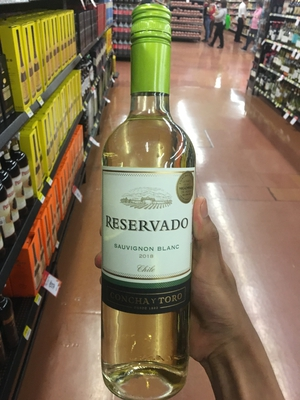reservado sauvignon blanc: (98, 1, 199, 400)
